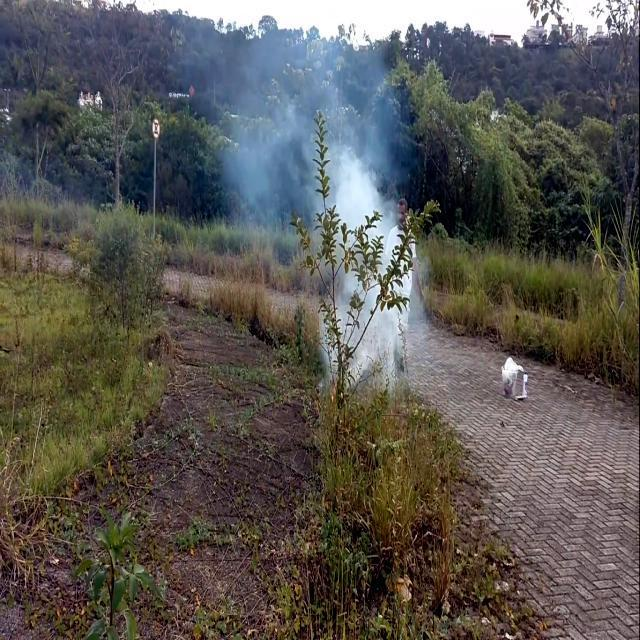Smoke: (221, 0, 418, 371)
